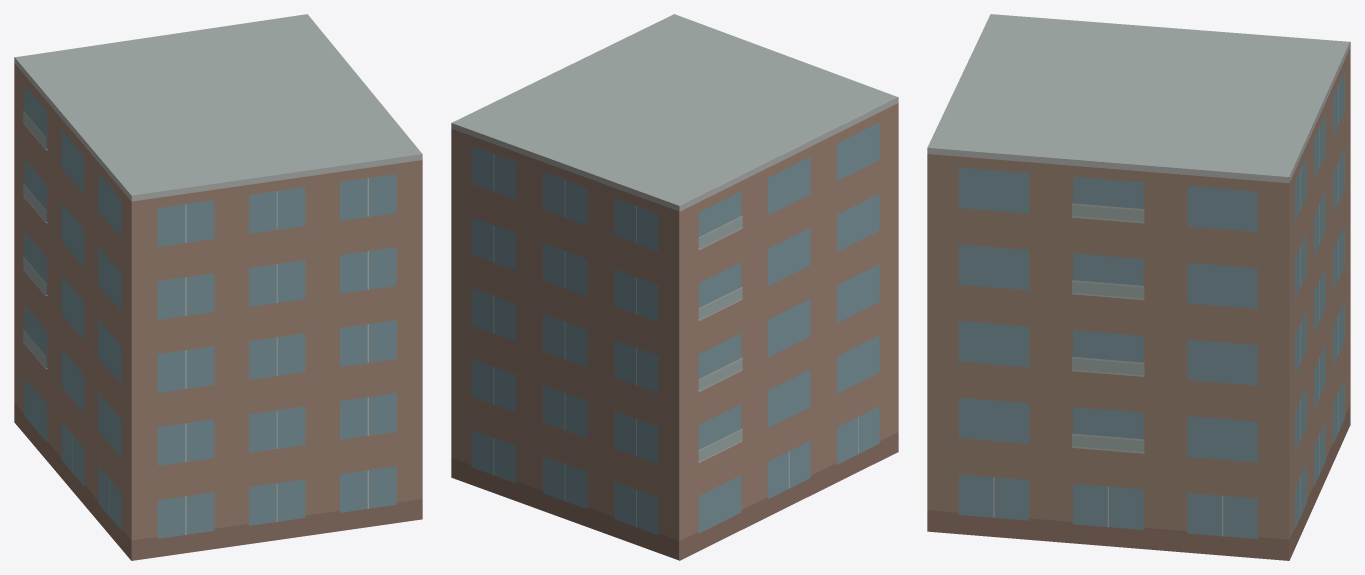
Rendered from survey-upis-32933806.glb.
3 renders of one model, left to right at view 1: azimuth 30°, elevation 25°; view 2: azimuth 150°, elevation 25°; view 3: azimuth 270°, elevation 25°, orthographic. The views are drawn at different scales.
Parts seen in each view (by area): view 1: survey-upis-32933806.tmp; view 2: survey-upis-32933806.tmp; view 3: survey-upis-32933806.tmp.
Boxes of the visible parts, x1,y1,x2,y2 form: survey-upis-32933806.tmp: (14, 14, 422, 560); survey-upis-32933806.tmp: (451, 14, 898, 560); survey-upis-32933806.tmp: (927, 14, 1350, 560).
Size of the model in its own units: 13.92 by 15.25 by 15.26.
